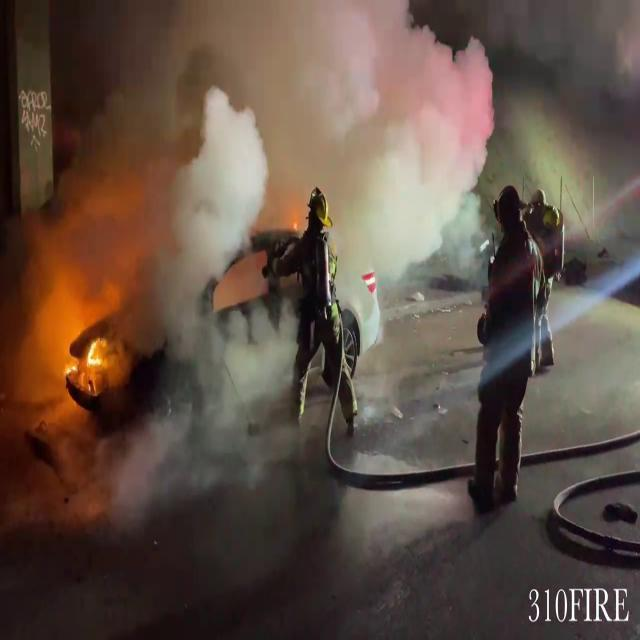Fire: (54, 319, 123, 392)
Smoke: (12, 0, 510, 266)
